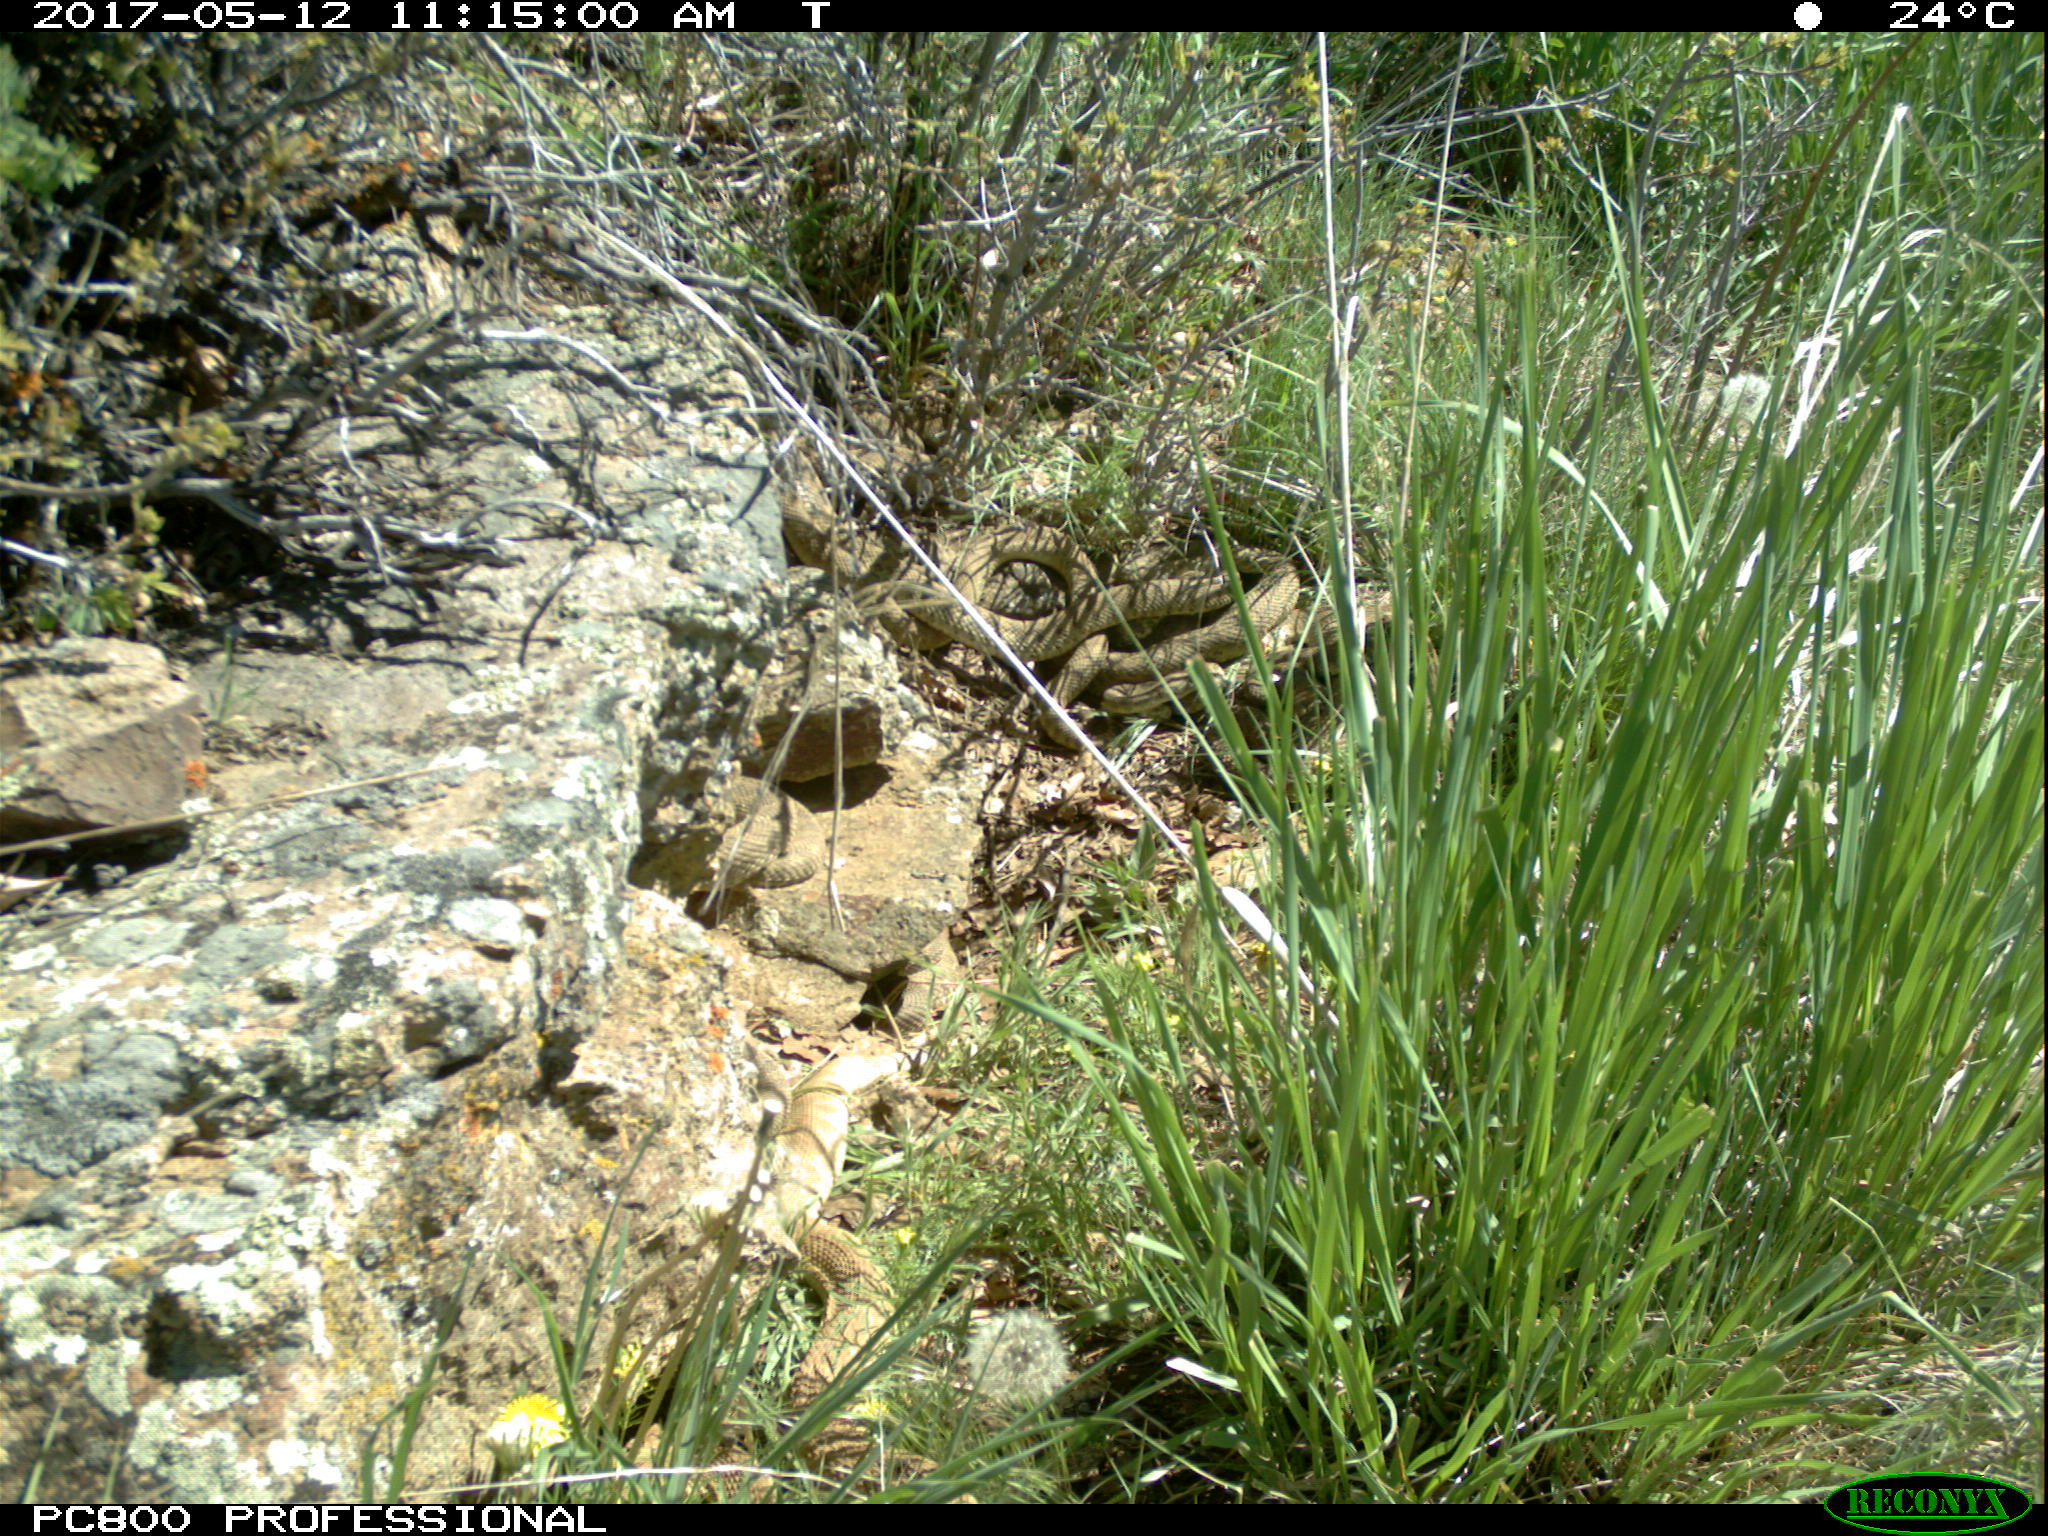snake: (777, 495, 1106, 650), (777, 1037, 897, 1425), (1018, 620, 1251, 728), (1082, 544, 1305, 650), (681, 776, 832, 892)
